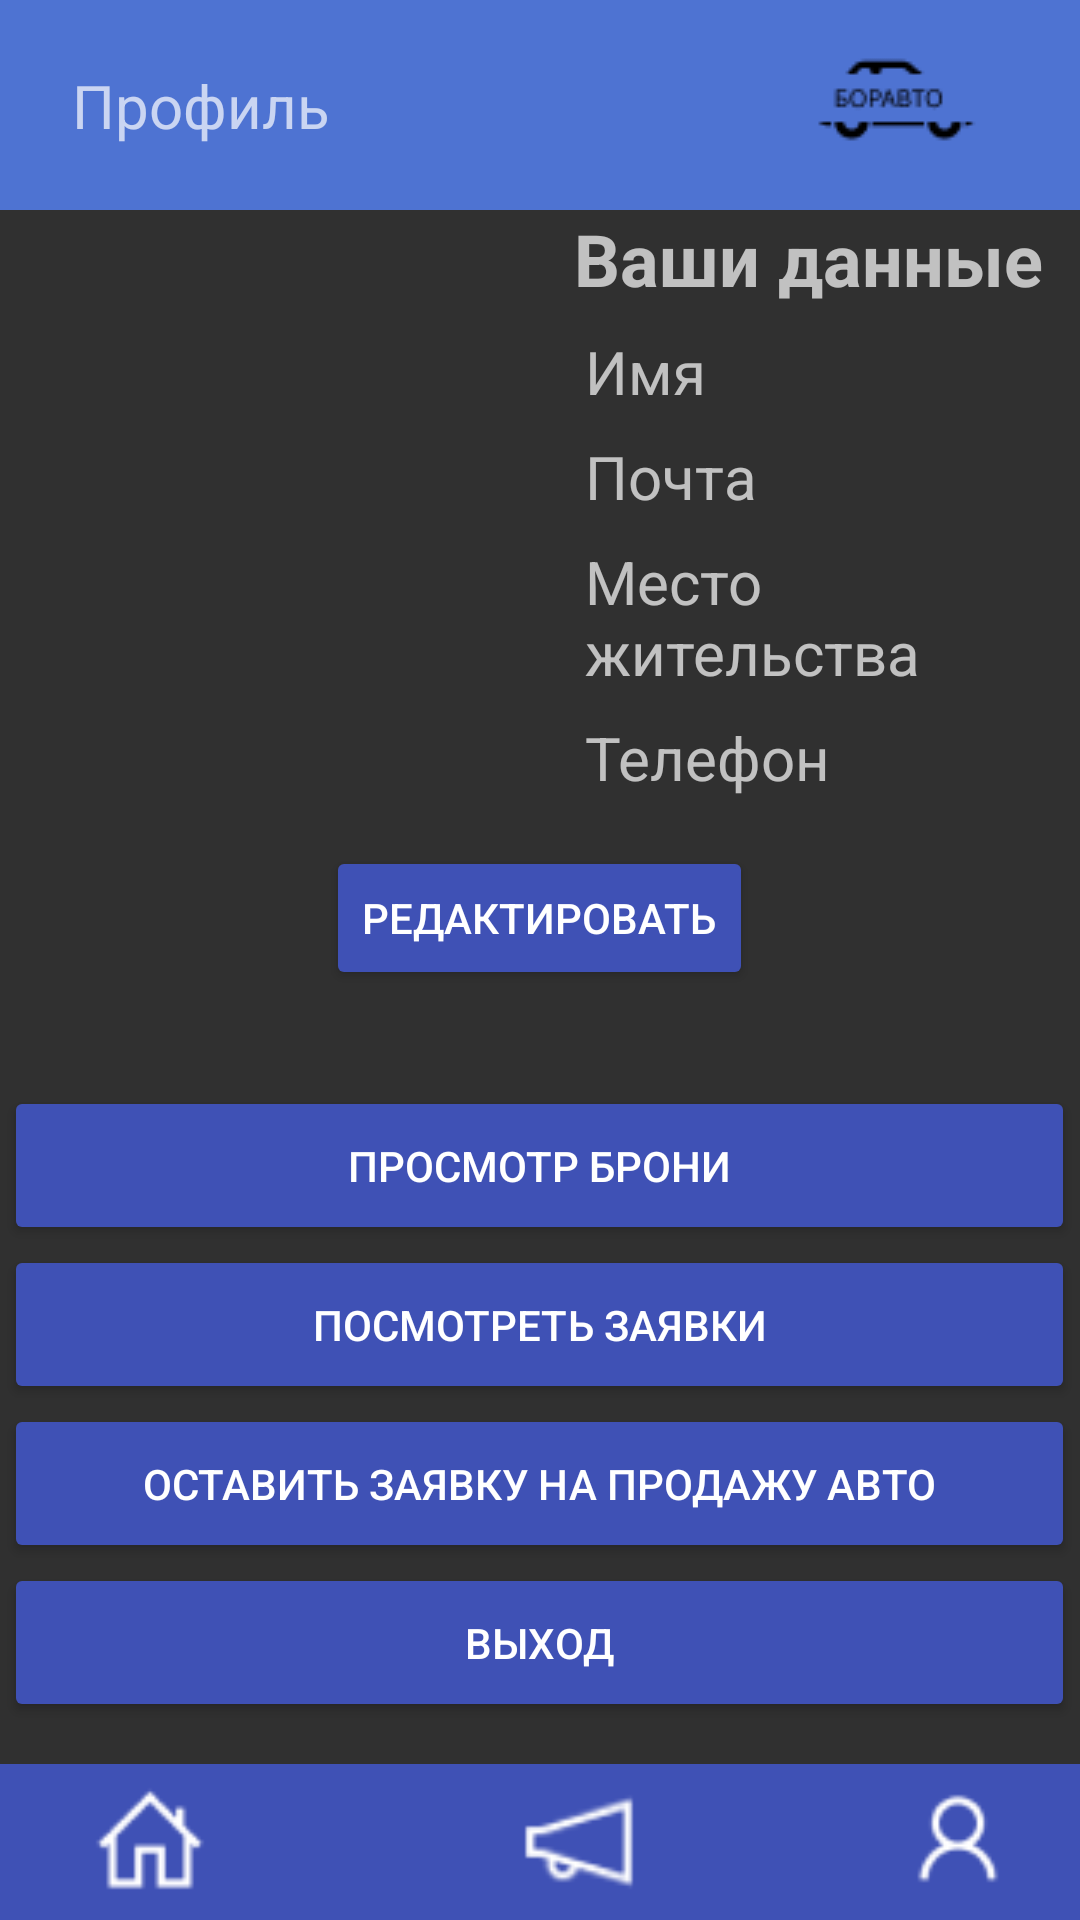

Where to tap for icons on this 1080 × 1920 app screen, as point (x, y):
contacts: point (958, 1838)
home: point (150, 1840)
news: point (579, 1842)
